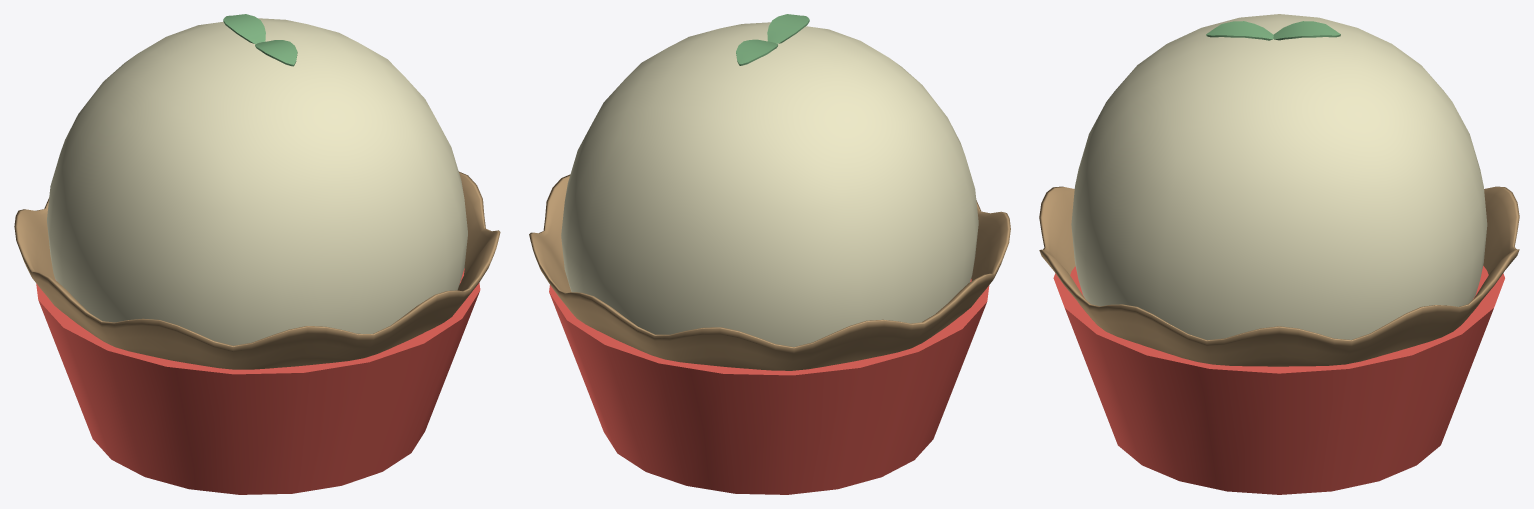
File: noicecream.fbx
3 renders of one model, left to right at view 1: azimuth 30°, elevation 25°; view 2: azimuth 150°, elevation 25°; view 3: azimuth 270°, elevation 25°, orthographic.
Visible parts, largest first — view 1: group4; view 2: group4; view 3: group4.
Part boxes in pixels (x1,y1,x2,y2): group4: [14, 14, 500, 494]; group4: [529, 14, 1010, 494]; group4: [1039, 14, 1519, 494].
Bounding box in the file's own units: 96.89 × 86.13 × 95.01.
